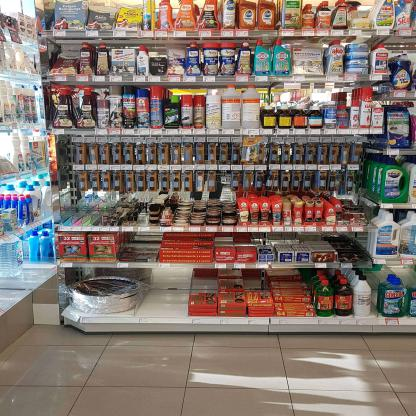Void: (147, 272, 184, 314), (195, 278, 213, 292), (130, 235, 156, 242), (247, 280, 259, 288), (219, 240, 231, 245)
